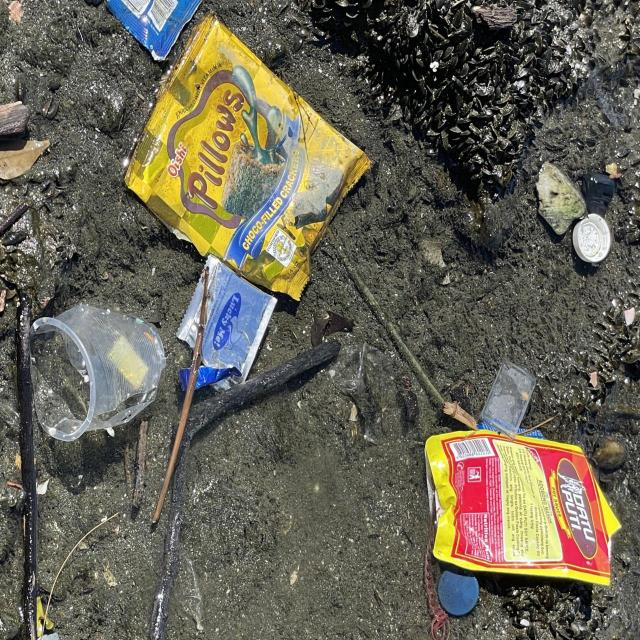plastic_waste: (124, 12, 378, 302), (422, 426, 620, 584), (28, 304, 163, 444), (175, 256, 277, 383), (104, 1, 214, 59), (573, 214, 613, 265)
